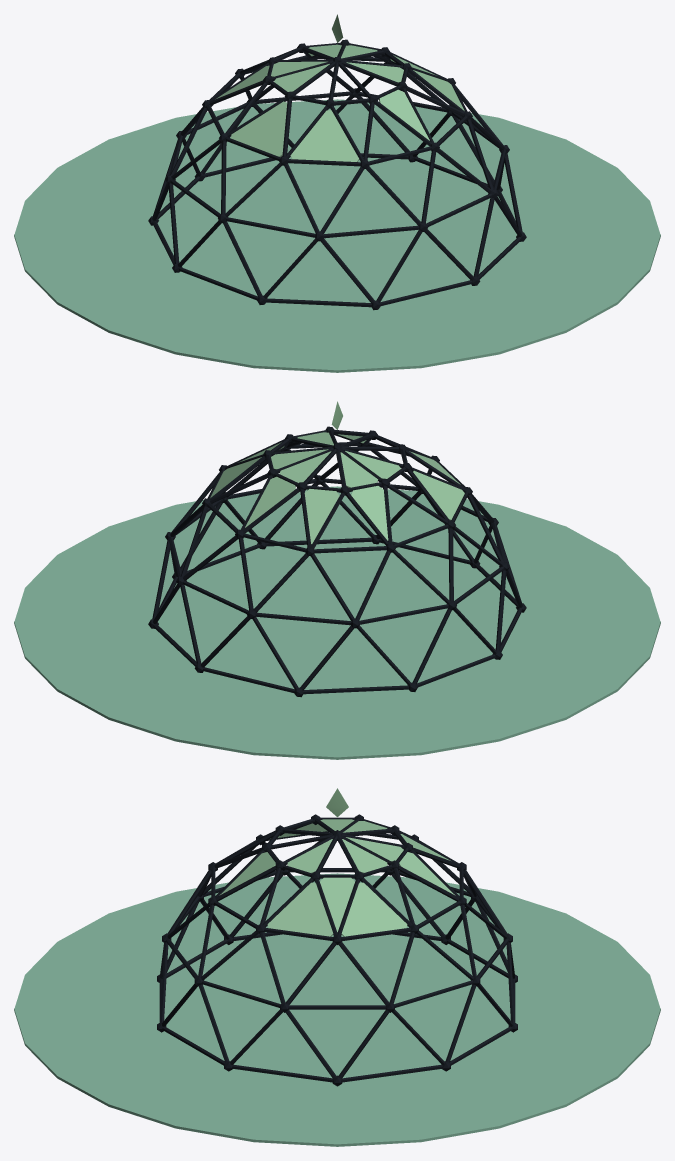
3 renders of one model, top to bottom at view 1: azimuth 30°, elevation 25°; view 2: azimuth 150°, elevation 25°; view 3: azimuth 270°, elevation 25°, orthographic.
Parts seen in each view (by area): view 1: Fall_Zone_Pad, Dome_Frame, Shade_Panels; view 2: Fall_Zone_Pad, Dome_Frame, Shade_Panels; view 3: Fall_Zone_Pad, Dome_Frame, Shade_Panels.
Boxes of the visible parts, x1,y1,x2,y2 form: Fall_Zone_Pad: (14, 99, 660, 372); Dome_Frame: (148, 39, 526, 310); Shade_Panels: (215, 44, 464, 161); Fall_Zone_Pad: (14, 486, 660, 759); Dome_Frame: (148, 426, 526, 697); Shade_Panels: (210, 432, 464, 544); Fall_Zone_Pad: (14, 873, 660, 1146); Dome_Frame: (157, 814, 517, 1086); Shade_Panels: (219, 819, 455, 936).
Size of what is drawn, in the model's own units: 7 by 2.65 by 7.
4 materials, 1 textured.
